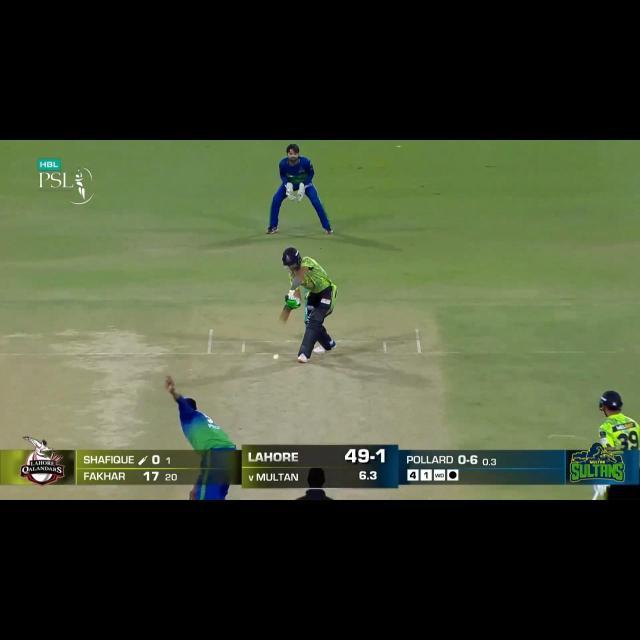bat: (588, 486, 604, 501), (277, 308, 290, 326)
toe: (275, 319, 288, 327)
